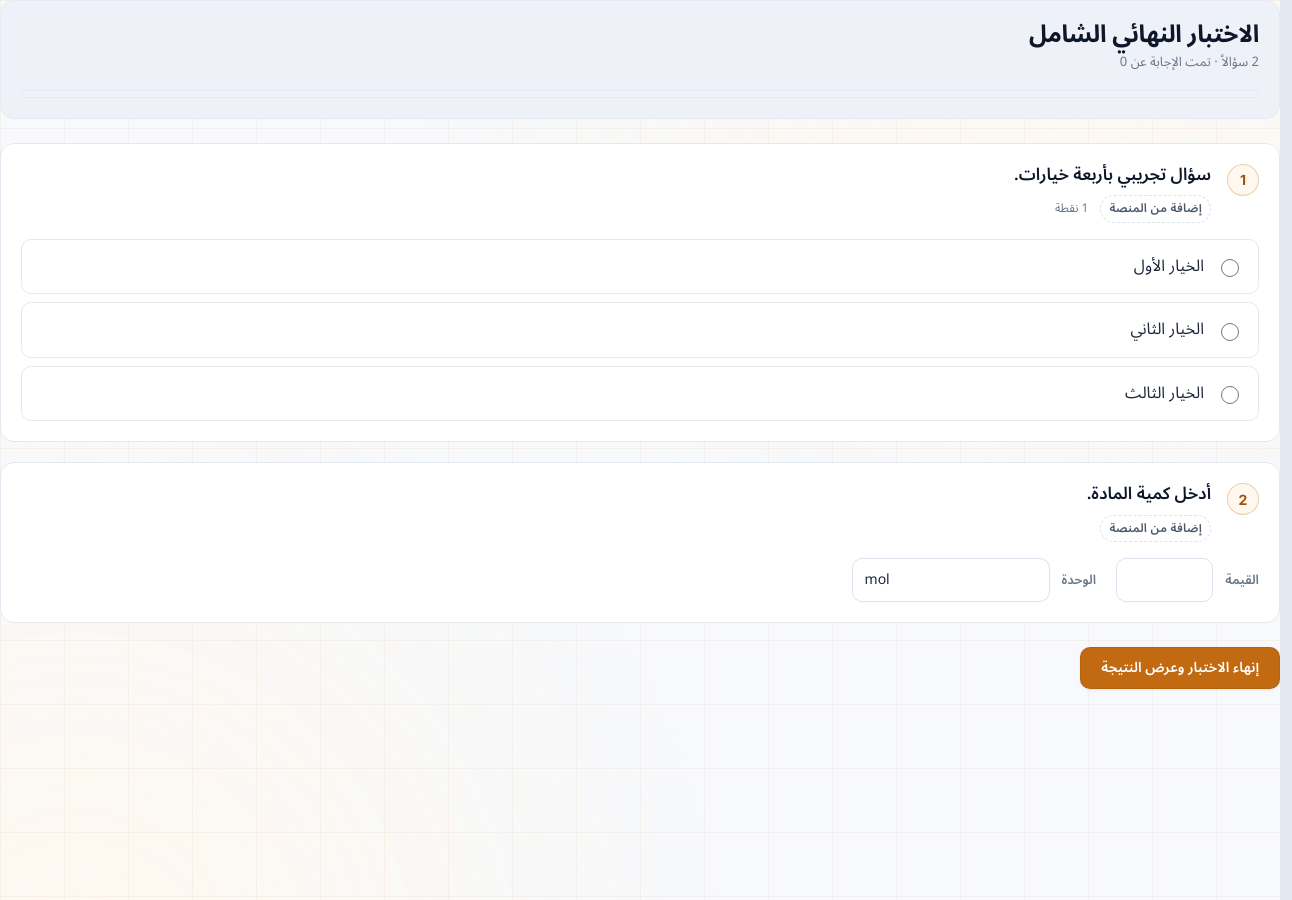
Test case: FinalTestRunner › warns about unanswered questions before submitting
Step 1. Click the button "إنهاء الاختبار وعرض النتيجة" → coordinates (1180, 668), box 1080,647 -> 1280,689
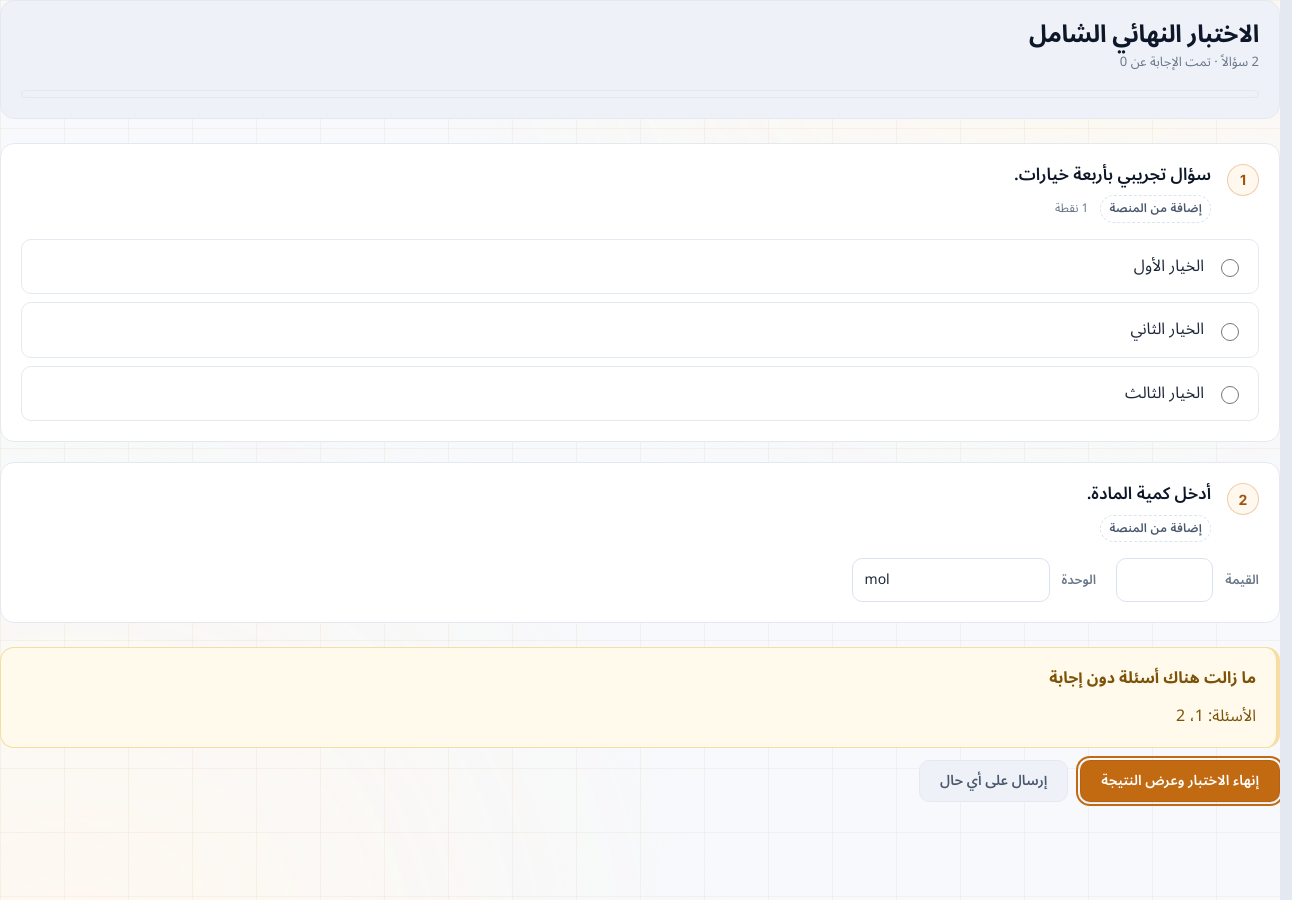
Expected: the message shows "ما زالت هناك أسئلة دون إجابة", 1049,661 -> 1256,695
